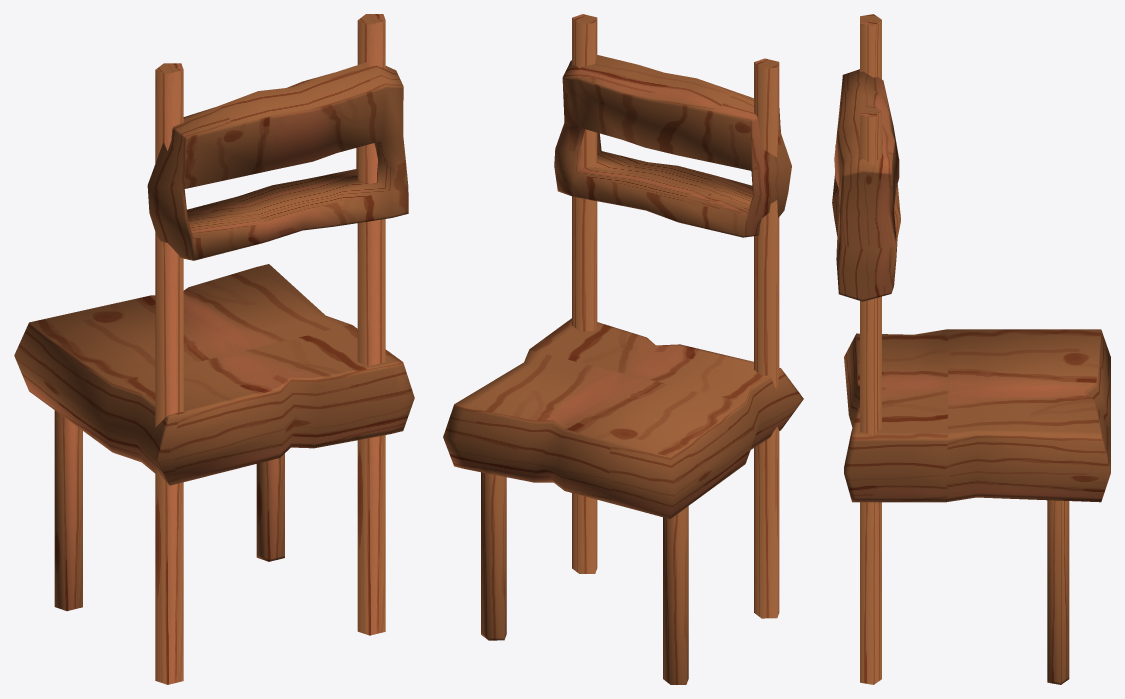
The model's file is Krzesło.fbx.
3 renders of one model, left to right at view 1: azimuth 30°, elevation 25°; view 2: azimuth 150°, elevation 25°; view 3: azimuth 270°, elevation 25°, orthographic. The views are drawn at different scales.
Parts seen in each view (by area): view 1: Oparcie, Trzymadełka; view 2: Oparcie, Trzymadełka; view 3: Oparcie, Trzymadełka.
Boxes of the visible parts, box(x1,y1,x2,y2) form: Oparcie: box(14, 62, 414, 485); Trzymadełka: box(54, 14, 385, 684); Oparcie: box(443, 55, 803, 518); Trzymadełka: box(481, 14, 779, 684); Oparcie: box(832, 69, 1110, 502); Trzymadełka: box(860, 14, 1069, 684).
Bounding box in the file's own units: 114 × 260 × 116.
